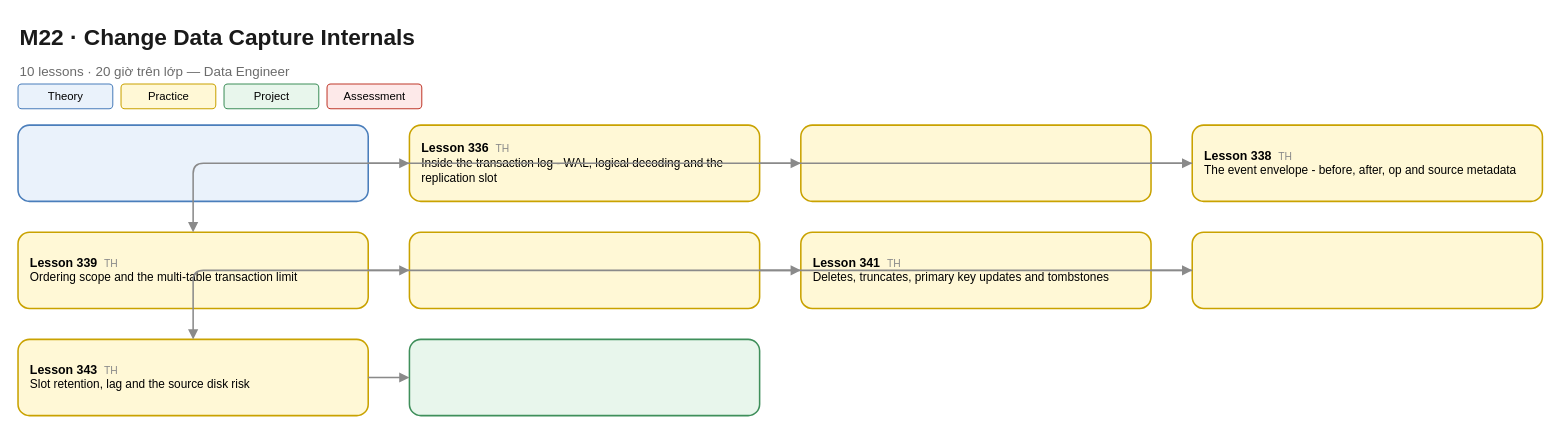
The diagram is 1561 pixels wide and 434 high, and some of its shapes have lost their labels. The shapes that lost their labels are listed below. From the top down, each one's centre as x and y in pixels, then its label:
the point at 193,163: Lesson 335 LT Three ways to capture change and their cost
the point at 975,163: Lesson 337 TH The consistent bootstrap - snapshot interleaved with the live log
the point at 584,270: Lesson 340 TH Position, offset and checkpoint - three different things
the point at 1367,270: Lesson 342 TH Schema change, schema history and quarantine
the point at 584,377: Lesson 344 DA CDC project - reconcile after repeated crashes
